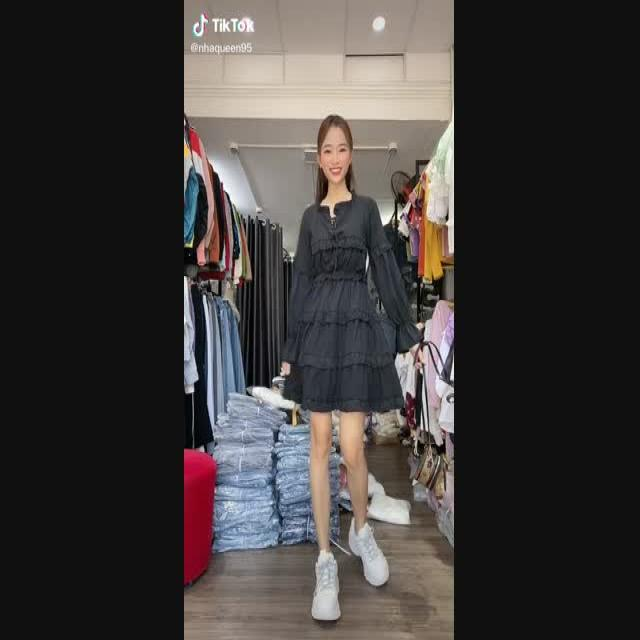clothes: (283, 194, 427, 413)
